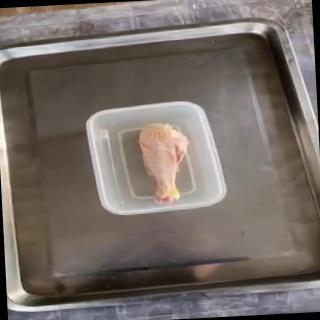Ayam: (136, 122, 194, 208)
